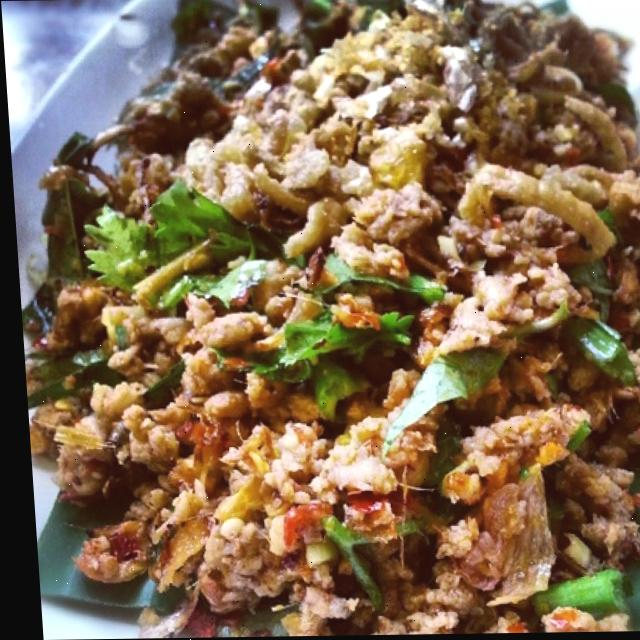鸡肉料理 含炸鸡: (9, 0, 640, 640)
